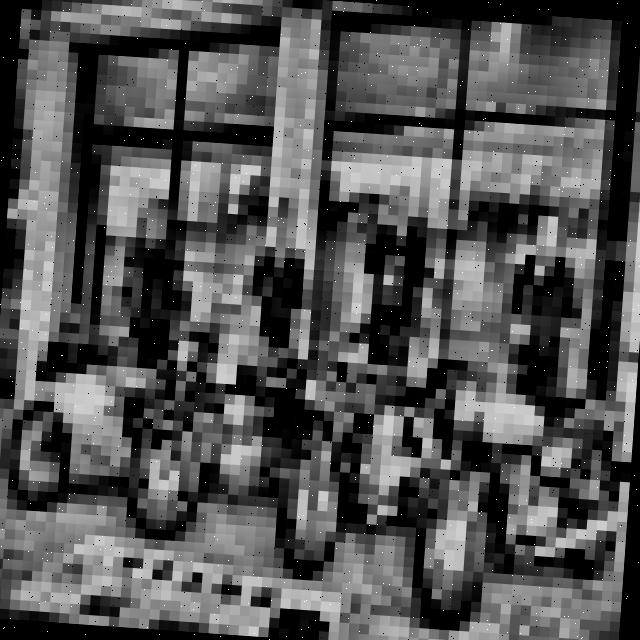mopeds: (391, 364, 625, 640), (247, 308, 472, 585), (117, 282, 323, 556), (0, 283, 172, 535)
